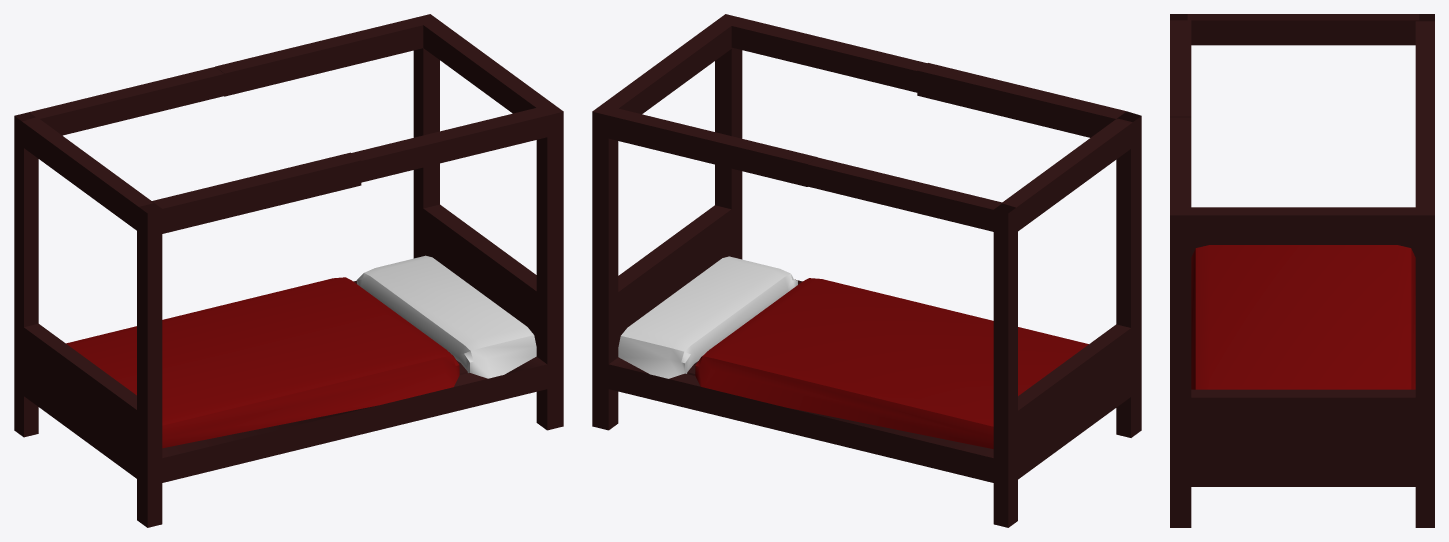
File: SM_Bed_2.fbx
The picture shows the model from 3 angles, left to right: view 1: azimuth 30°, elevation 25°; view 2: azimuth 150°, elevation 25°; view 3: azimuth 270°, elevation 25°; orthographic projection.
Parts seen in each view (by area): view 1: Baldaquin; view 2: Baldaquin; view 3: Baldaquin.
Part boxes in pixels (x1,y1,x2,y2): Baldaquin: [14, 14, 563, 527]; Baldaquin: [592, 14, 1141, 527]; Baldaquin: [1170, 14, 1434, 527].
Size of the model in its own units: 38.39 by 27.8 by 21.3.
